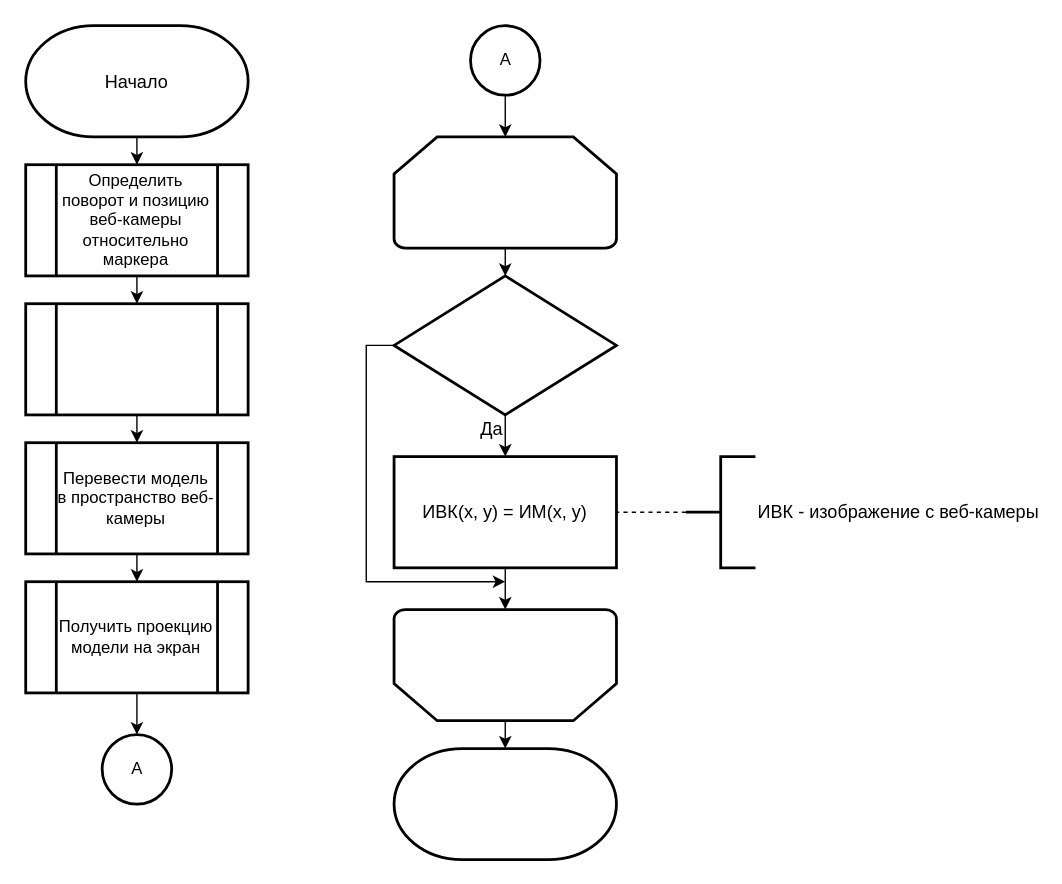
Some shapes in this 1062 by 884 pixel diagram are drawn without their labels. The shapes that lost their labels are listed below. From the top down, each one's centre as x and y in pixels, then its label:
At (504,192): "Для каждого пикселя с координатами (x, y) изображения модели (ИМ)".
At (136,359): "Получить матрицу перевода в пространство веб-камеры".
At (504,345): "ИМ(x, y) не является полностью прозрачным?".
At (504,803): "Конец".
